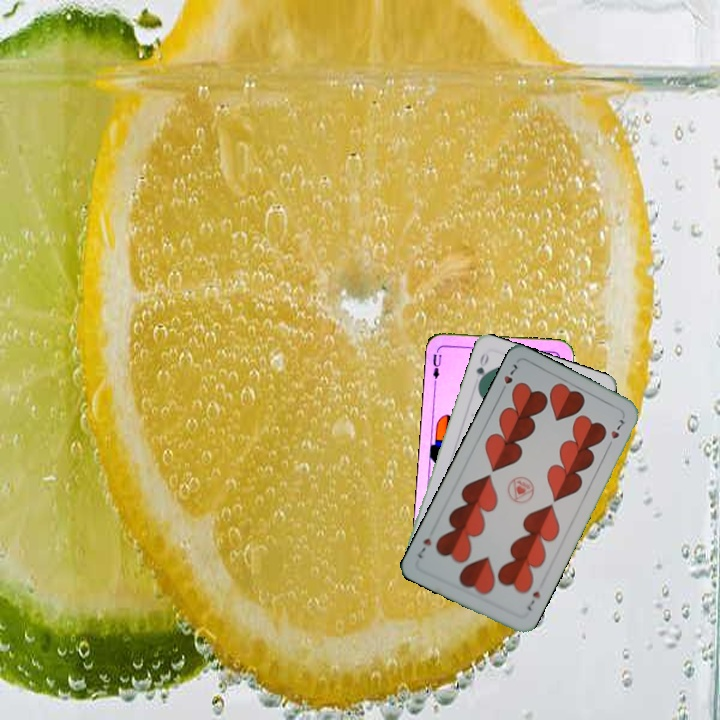EU: (429, 345, 444, 386)
GO: (472, 349, 491, 389)
H7: (496, 360, 521, 396), (523, 587, 543, 613)
